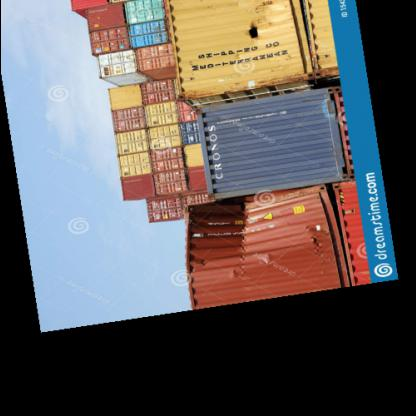Damage: (198, 184, 261, 246), (240, 15, 270, 52)
